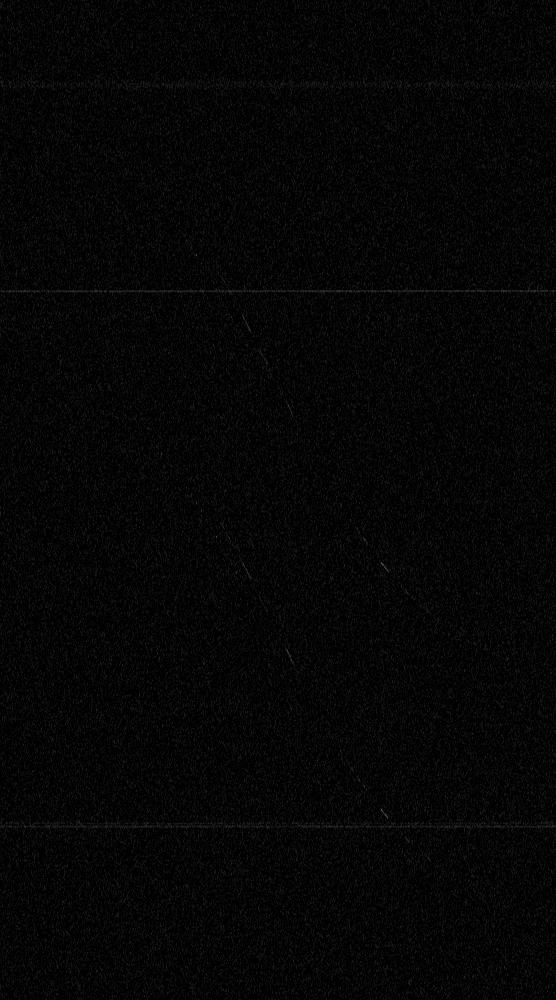signal: (0, 0, 555, 999)
